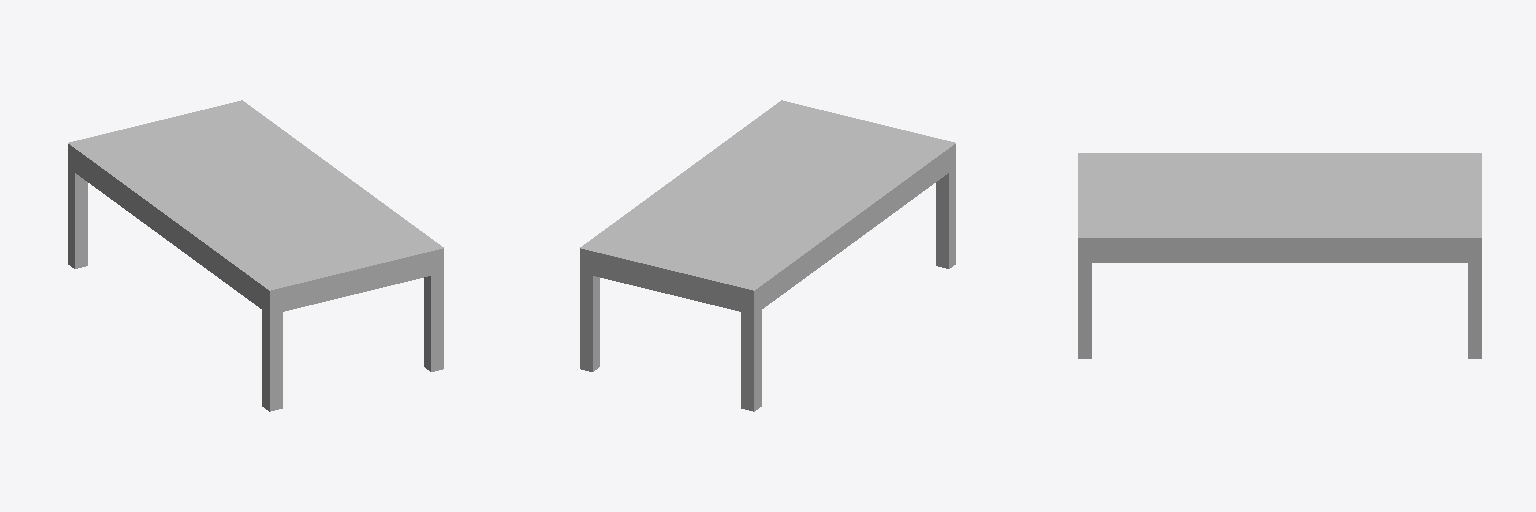
File: mesa.obj
The picture shows the model from 3 angles: view 1: azimuth 30°, elevation 25°; view 2: azimuth 150°, elevation 25°; view 3: azimuth 270°, elevation 25°; orthographic projection.
Visible parts, largest first — view 1: Cube_Cube.001; view 2: Cube_Cube.001; view 3: Cube_Cube.001.
Part boxes in pixels (x1,y1,x2,y2): Cube_Cube.001: (68,100,443,411); Cube_Cube.001: (580,100,955,411); Cube_Cube.001: (1078,153,1481,358).
Size of the model in its own units: 1.5 by 0.9908 by 3.